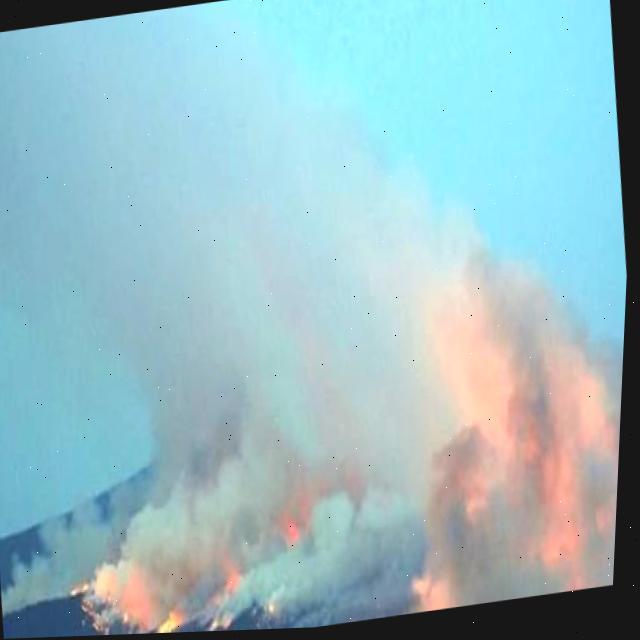smoke: (0, 0, 627, 636)
